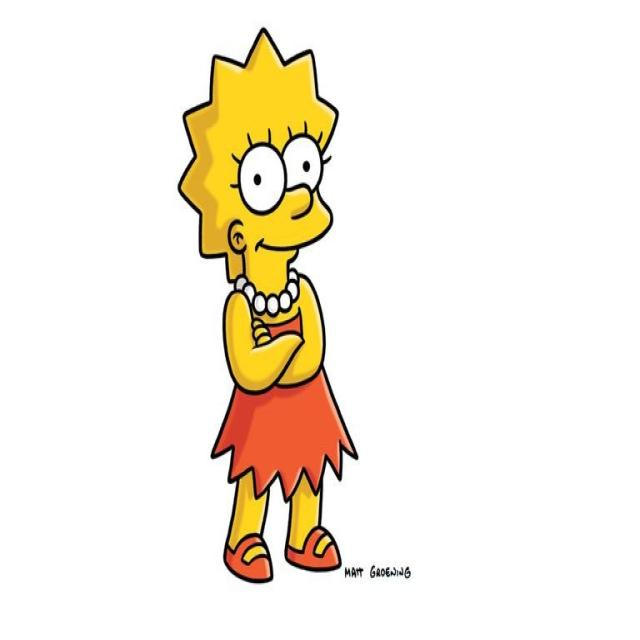Lisa Simpson: (173, 22, 340, 319)
